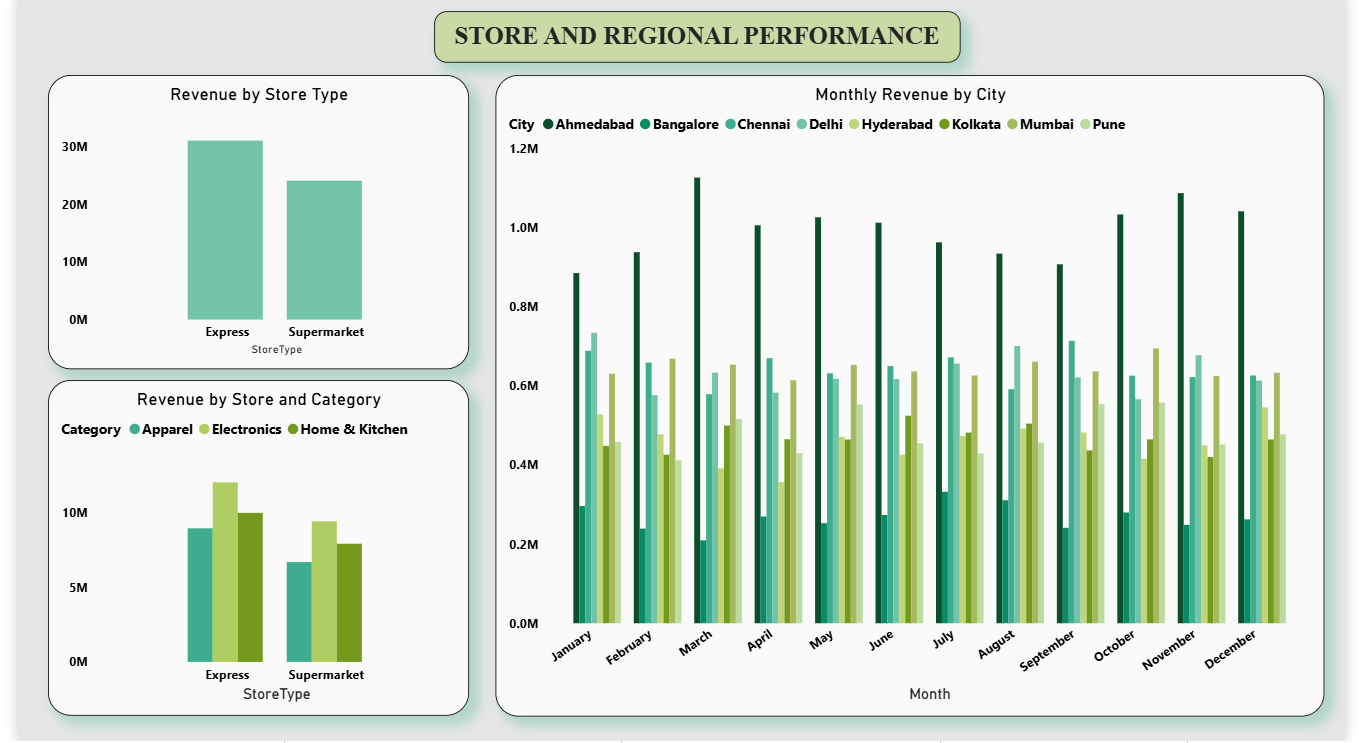

What the dashboard file says about the page in this screenshot:
{"tool":"powerbi","page":{"name":"STORE AND REGIONAL PERFORMANCE","canvas":[1280,720],"ordinal":2},"visuals":[{"type":"columnChart","title":"Revenue by Store Type","fields":{"Category":["Stores.StoreType"],"Y":["Sum(Sales.NetRevenue)"]},"box":[28.8,76.8,406.2,284],"z":0},{"type":"clusteredColumnChart","title":"Revenue by Store and Category","fields":{"Category":["Stores.StoreType"],"Series":["Products.Category"],"Y":["Sum(Sales.NetRevenue)"]},"box":[28.8,371.9,406.2,323.8],"z":1000},{"type":"clusteredColumnChart","title":"Monthly Revenue by City","fields":{"Category":["Sales.OrderDate.Variation.Date Hierarchy.Month"],"Y":["Sum(Sales.NetRevenue)"],"Series":["Stores.City"]},"box":[461.1,76.8,800,618.9],"z":2000},{"type":"textbox","box":[402.1,15.1,507.7,49.4],"z":3000}]}

Visuals, with their boxes on the page's 1280x720 design canvas (x1, y1, x2, y2). These are canvas units, not pixel positions in the 1361x743 screenshot, which may show the page scaled, cropped or inside an application window:
"Revenue by Store Type" columnChart: locate(29, 77, 435, 361)
"Revenue by Store and Category" clusteredColumnChart: locate(29, 372, 435, 696)
"Monthly Revenue by City" clusteredColumnChart: locate(461, 77, 1261, 696)
textbox: locate(402, 15, 910, 64)
